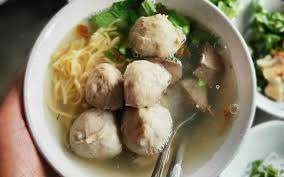bakso: (48, 11, 236, 161)
